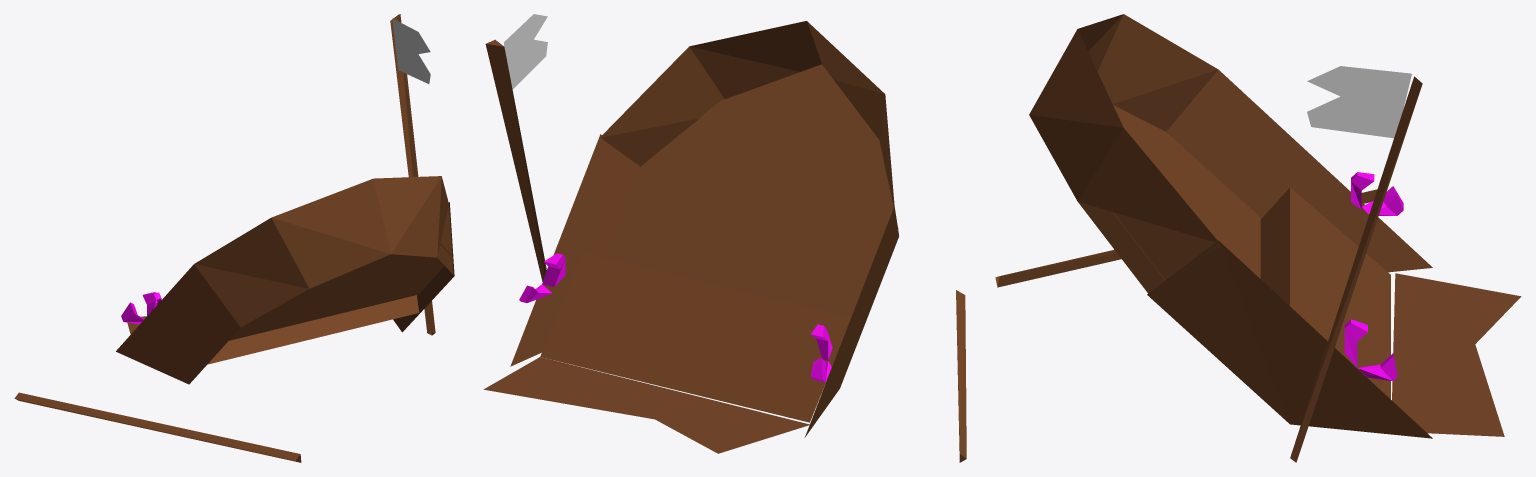
Rendered from rowboatsinking.obj.
The picture shows the model from 3 angles, left to right: view 1: azimuth 30°, elevation 25°; view 2: azimuth 150°, elevation 25°; view 3: azimuth 270°, elevation 25°; orthographic projection. The views are drawn at different scales.
Parts seen in each view (by area): view 1: rowboatsinking_back, rowboatsinking_front; view 2: rowboatsinking_back, rowboatsinking_front; view 3: rowboatsinking_back, rowboatsinking_front.
Boxes of the visible parts, x1=… form: rowboatsinking_back: x1=116, y1=18, x2=454, y2=384; rowboatsinking_front: x1=14, y1=14, x2=435, y2=462; rowboatsinking_back: x1=483, y1=14, x2=898, y2=453; rowboatsinking_front: x1=485, y1=39, x2=966, y2=462; rowboatsinking_back: x1=1029, y1=14, x2=1521, y2=438; rowboatsinking_front: x1=995, y1=76, x2=1422, y2=462.
Size of the model in its own units: 3.02 by 2.09 by 2.5.
